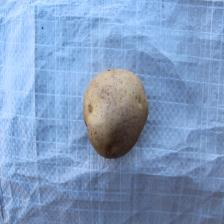Diseased-fungal potato: (81, 66, 151, 160)
